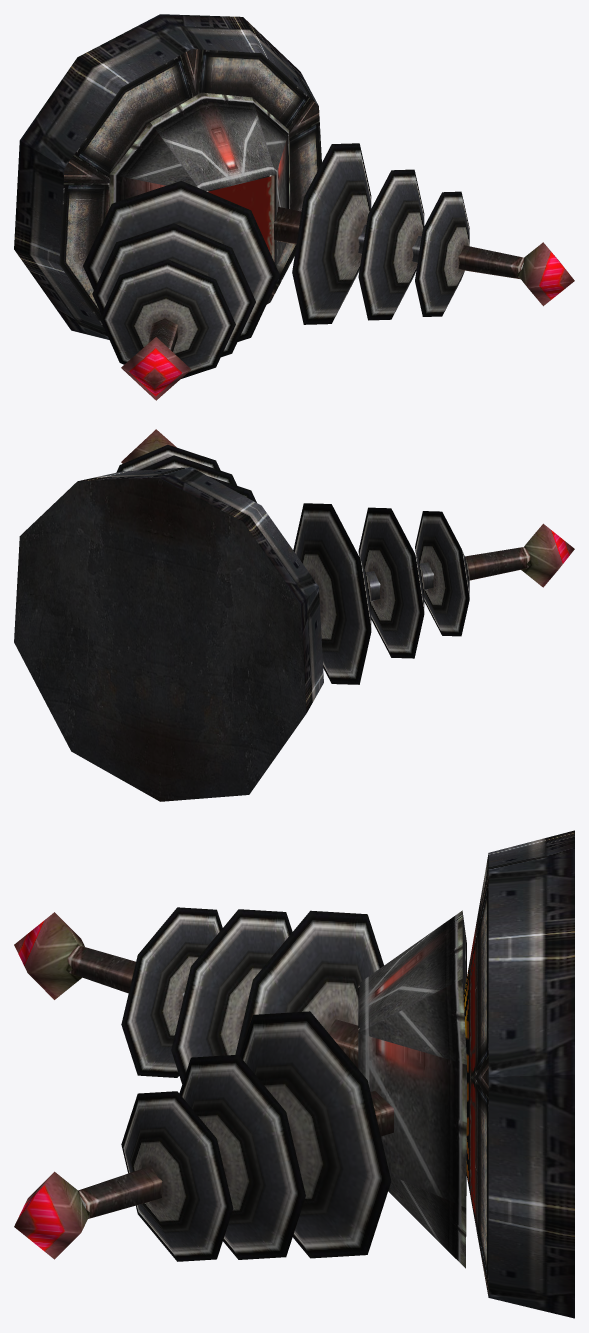
The model's file is comm-tower-05.obj.
The picture shows the model from 3 angles, top to bottom: view 1: azimuth 30°, elevation 25°; view 2: azimuth 150°, elevation 25°; view 3: azimuth 270°, elevation 25°; orthographic projection. The views are drawn at different scales.
Parts seen in each view (by area): view 1: comm_tower_05; view 2: comm_tower_05; view 3: comm_tower_05.
Boxes of the visible parts, <box> form: comm_tower_05: <box>14,14,574,400</box>; comm_tower_05: <box>14,429,574,801</box>; comm_tower_05: <box>14,830,574,1318</box>.
Size of the model in its own units: 3.24 by 2.28 by 2.62.
1 material, 1 textured.
